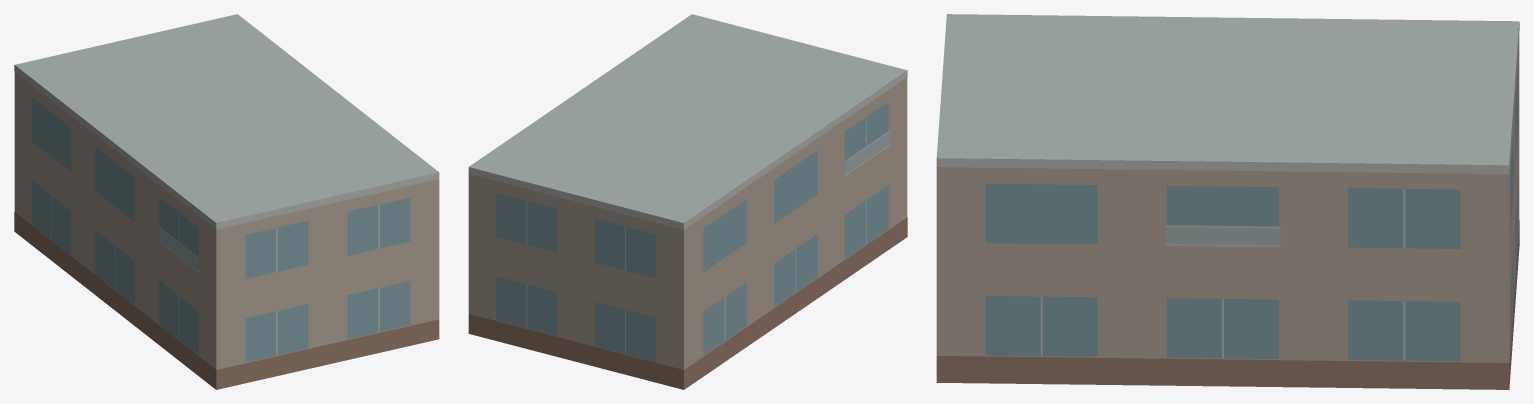
The model's file is survey-upis-32858902.glb.
3 views of the same model, side by side, from view 1: azimuth 30°, elevation 25°; view 2: azimuth 150°, elevation 25°; view 3: azimuth 270°, elevation 25° (orthographic). The views are drawn at different scales.
Parts seen in each view (by area): view 1: survey-upis-32858902.tmp; view 2: survey-upis-32858902.tmp; view 3: survey-upis-32858902.tmp.
Part boxes in pixels (x1,y1,x2,y2): survey-upis-32858902.tmp: [14, 14, 439, 389]; survey-upis-32858902.tmp: [468, 14, 907, 389]; survey-upis-32858902.tmp: [936, 14, 1519, 389].
Bounding box in the file's own units: 8.82 × 6.1 × 14.35.
